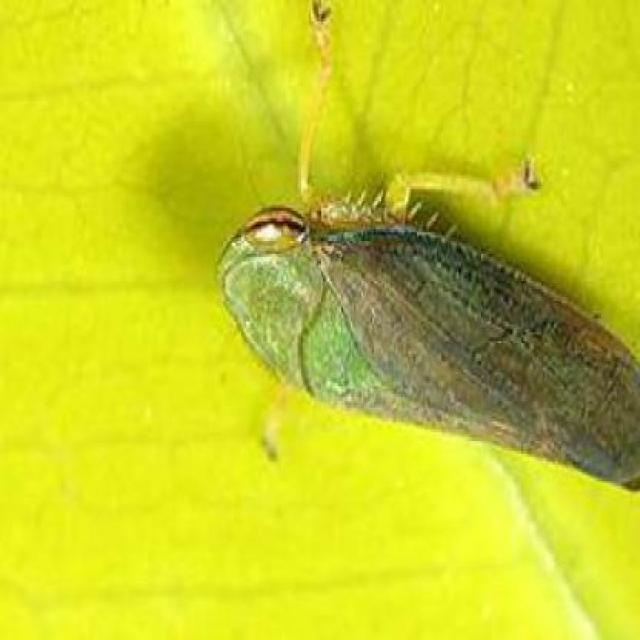green-leafhopper: (235, 198, 637, 476)
